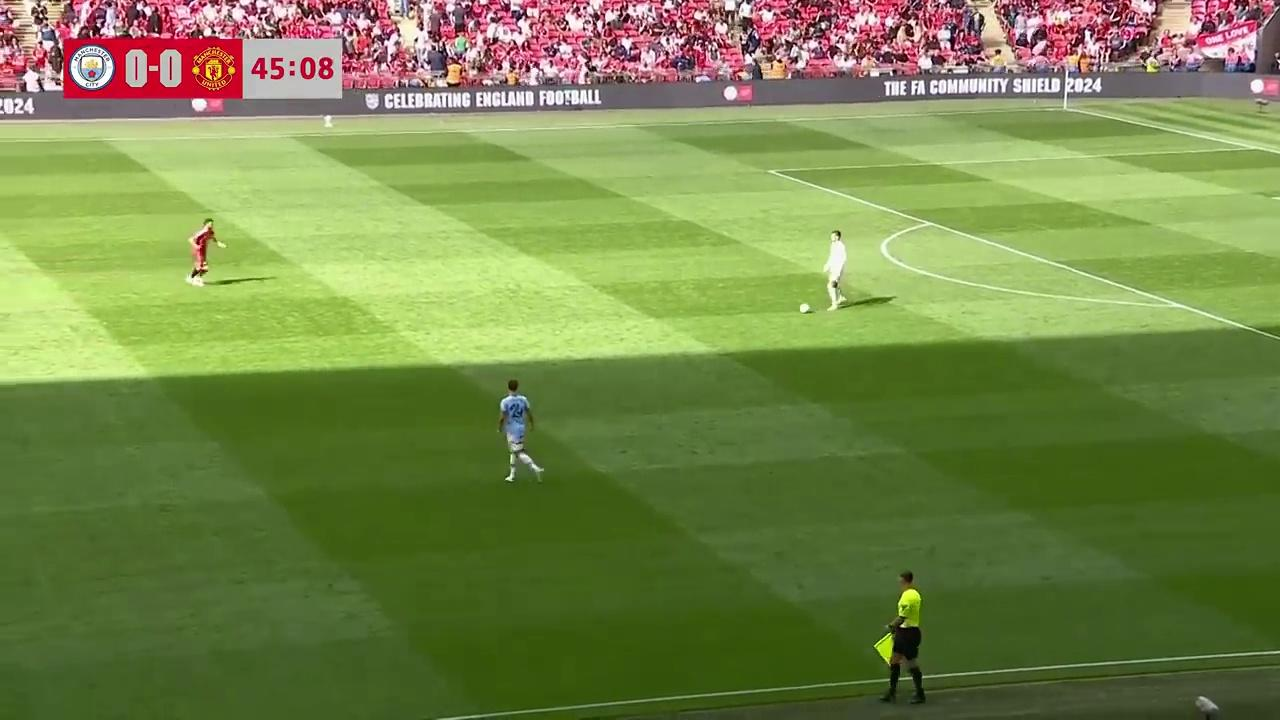ball: (797, 299, 812, 315)
player: (498, 380, 545, 484), (187, 218, 224, 287), (824, 229, 847, 309)
referee: (880, 567, 927, 704)
